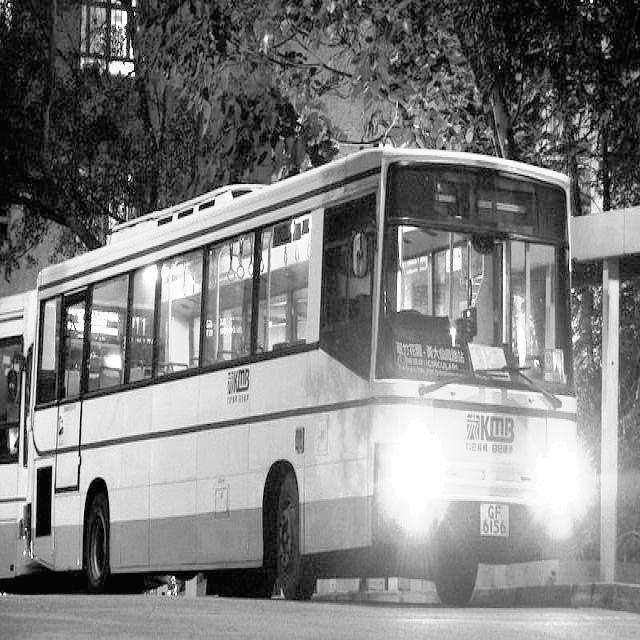Bus: (42, 132, 595, 619), (0, 217, 62, 640)
